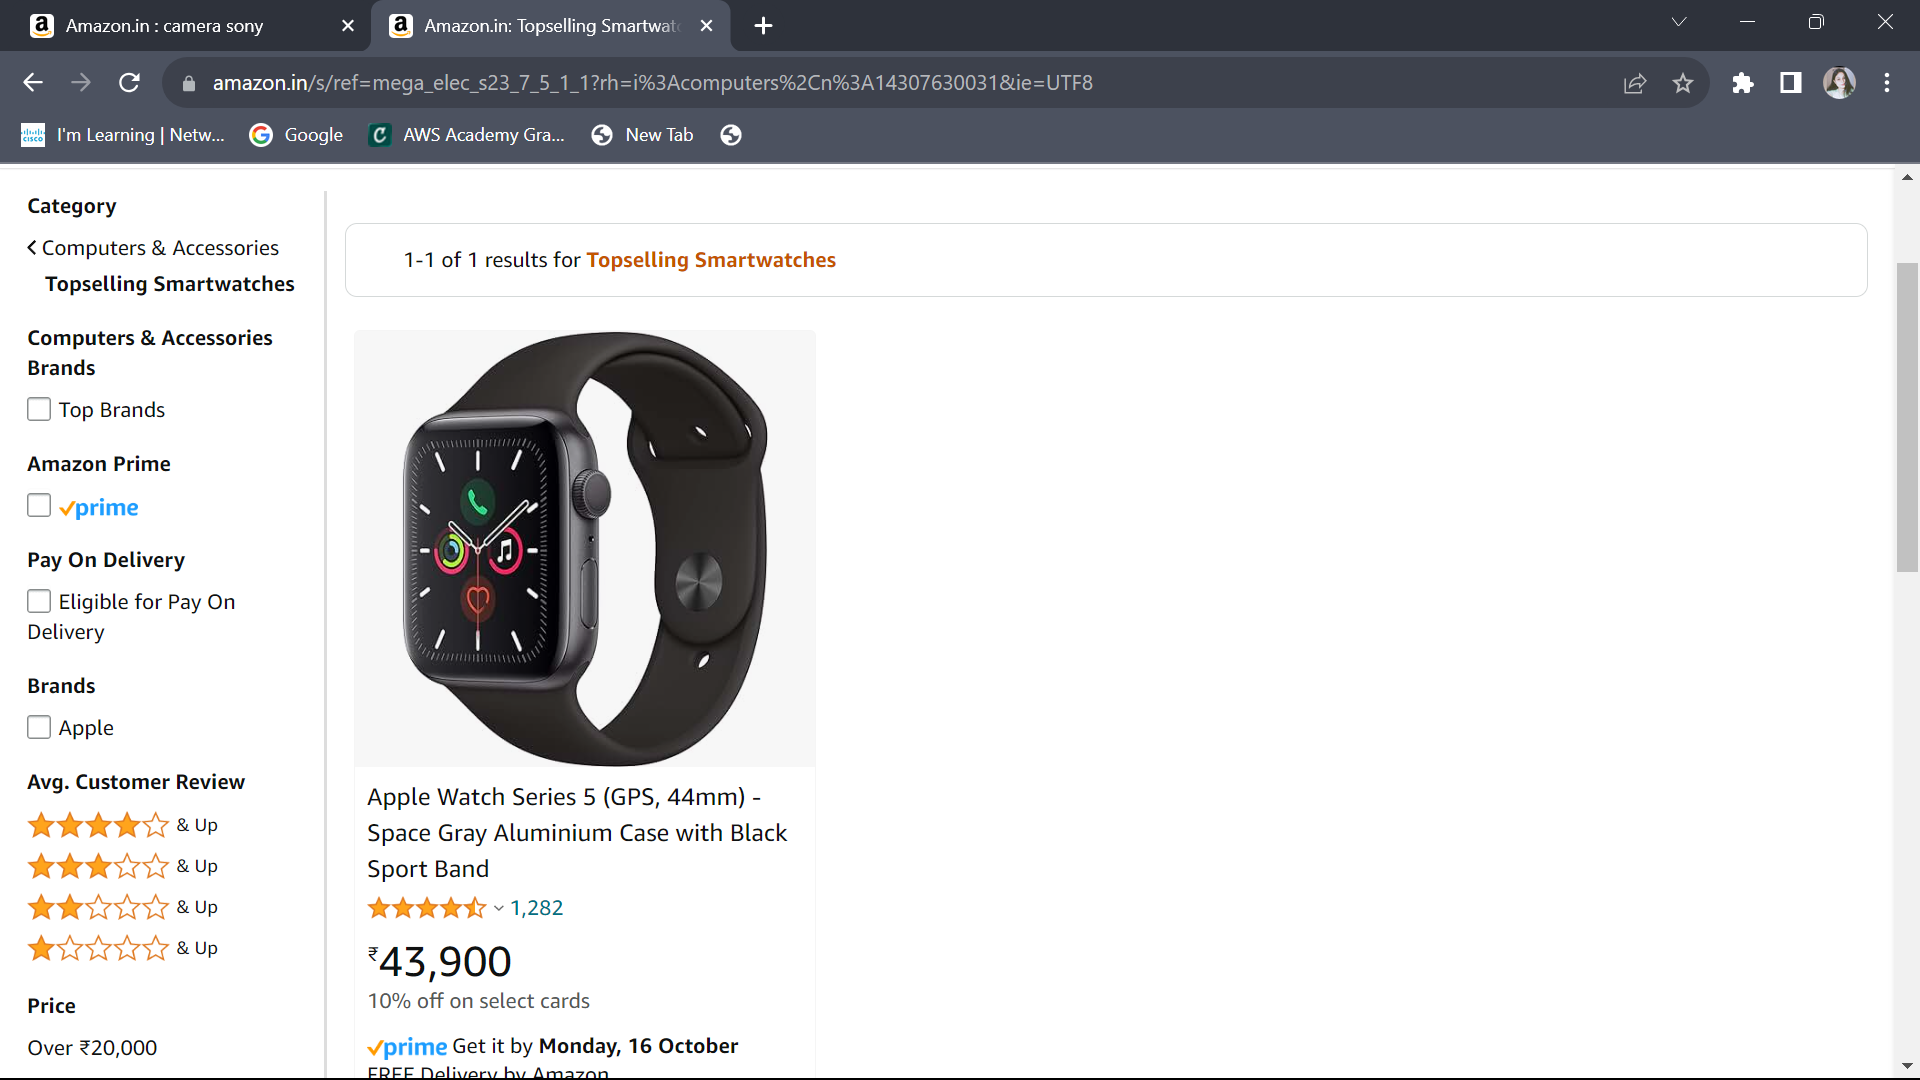Image: (400, 298, 848, 773)
Paragraph: (30, 770, 281, 1025), (361, 779, 829, 887), (21, 442, 215, 576), (12, 583, 293, 659), (12, 326, 323, 394), (388, 239, 855, 281), (12, 239, 307, 293), (12, 671, 146, 758), (9, 179, 158, 227), (7, 1039, 177, 1080), (18, 394, 212, 430)
